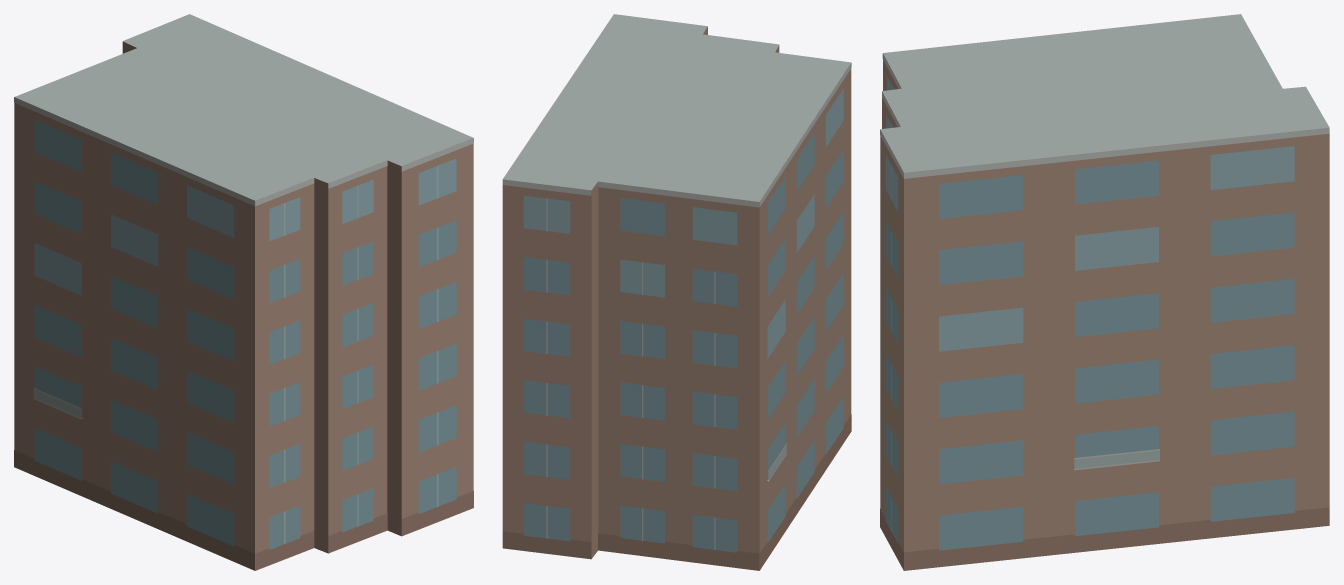
File: survey-upis-32561551.glb
3 views of the same model, side by side, from view 1: azimuth 30°, elevation 25°; view 2: azimuth 150°, elevation 25°; view 3: azimuth 270°, elevation 25° (orthographic). The views are drawn at different scales.
Visible parts, largest first — view 1: survey-upis-32561551.tmp; view 2: survey-upis-32561551.tmp; view 3: survey-upis-32561551.tmp.
Part boxes in pixels (x1,y1,x2,y2): survey-upis-32561551.tmp: [14, 14, 473, 570]; survey-upis-32561551.tmp: [502, 14, 851, 570]; survey-upis-32561551.tmp: [880, 14, 1329, 570].
Bounding box in the file's own units: 13.88 × 16.2 × 16.59.
